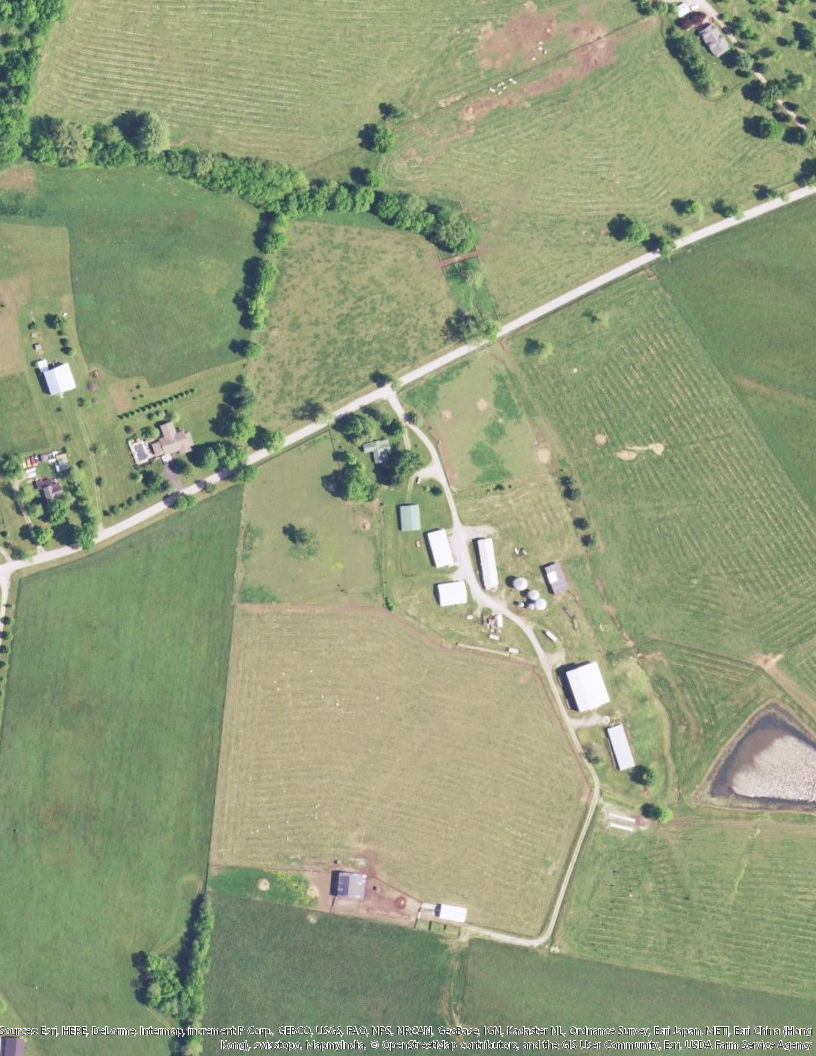cafo: (568, 657, 612, 715), (605, 722, 640, 772), (475, 535, 503, 593), (426, 523, 455, 569), (433, 578, 474, 608), (395, 497, 424, 534)
